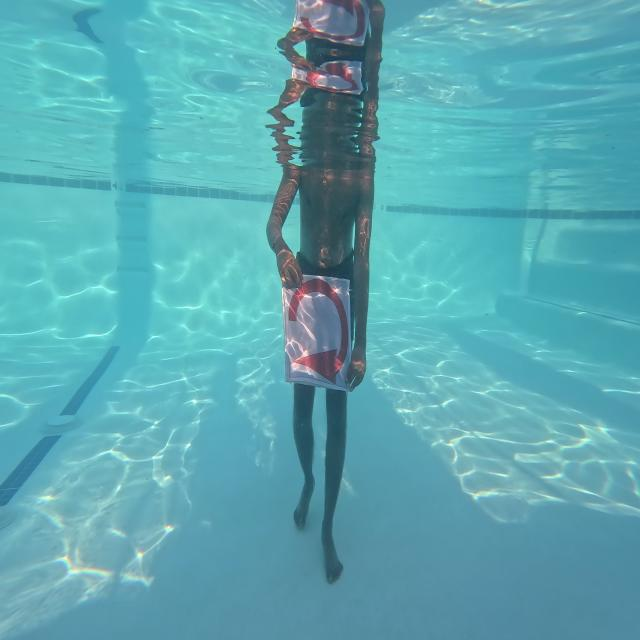red_side: (282, 273, 357, 384)
